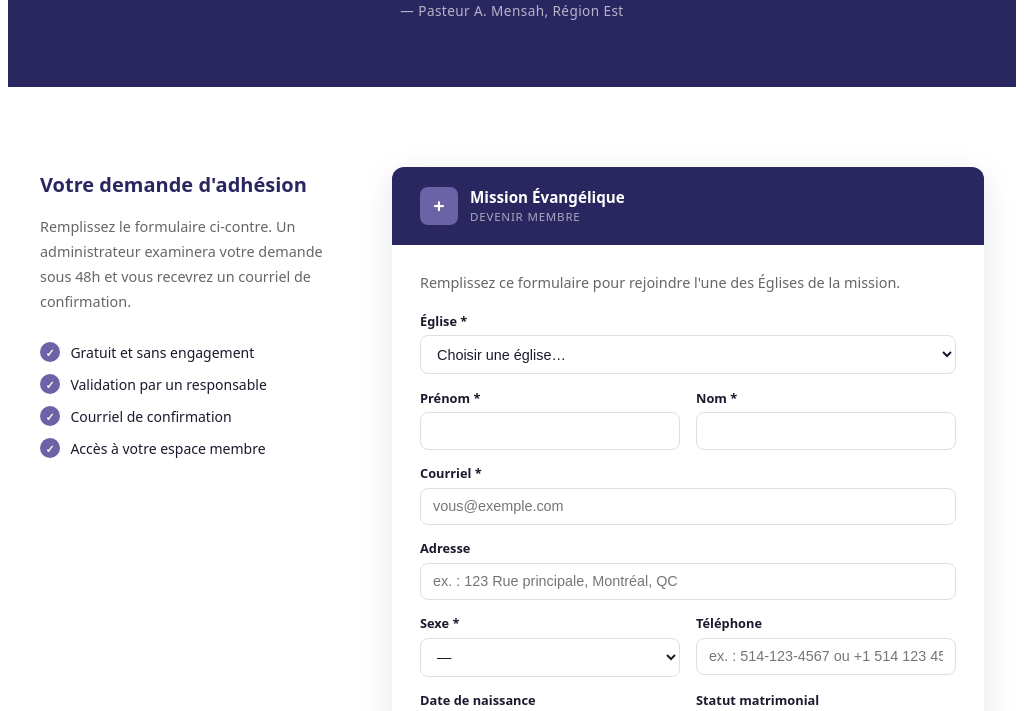
Test: MembershipPage — envoi et confirmation › affiche l'erreur du serveur et garde le formulaire ouvert
(page scrolled)
Select "Église centrale — Centre" in the 1st dropdown: (688, 355) [420, 335, 956, 374]
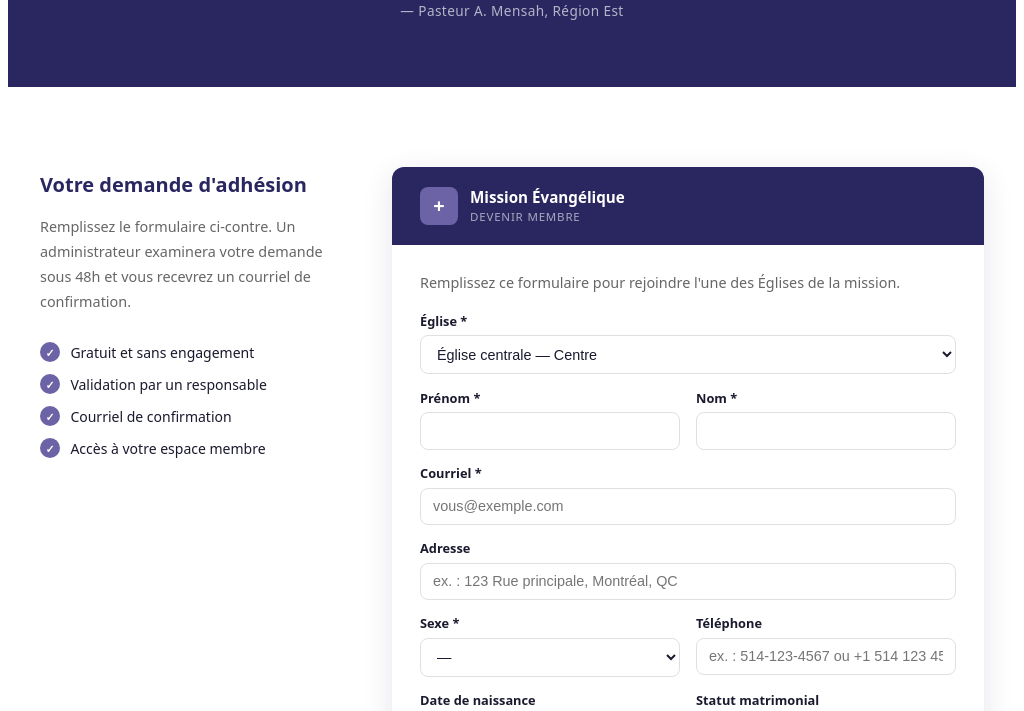
In the field below "Prénom *": (550, 431) [420, 412, 680, 450], type "Marie"
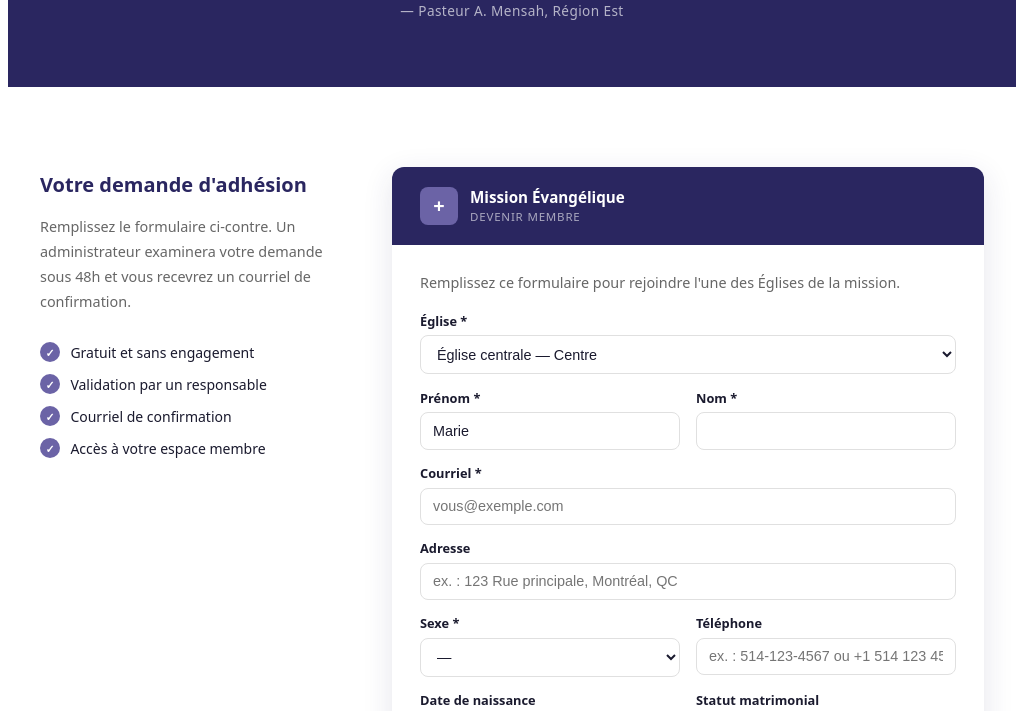
In the 2nd field: (826, 431) [696, 412, 956, 450], type "Dupont"
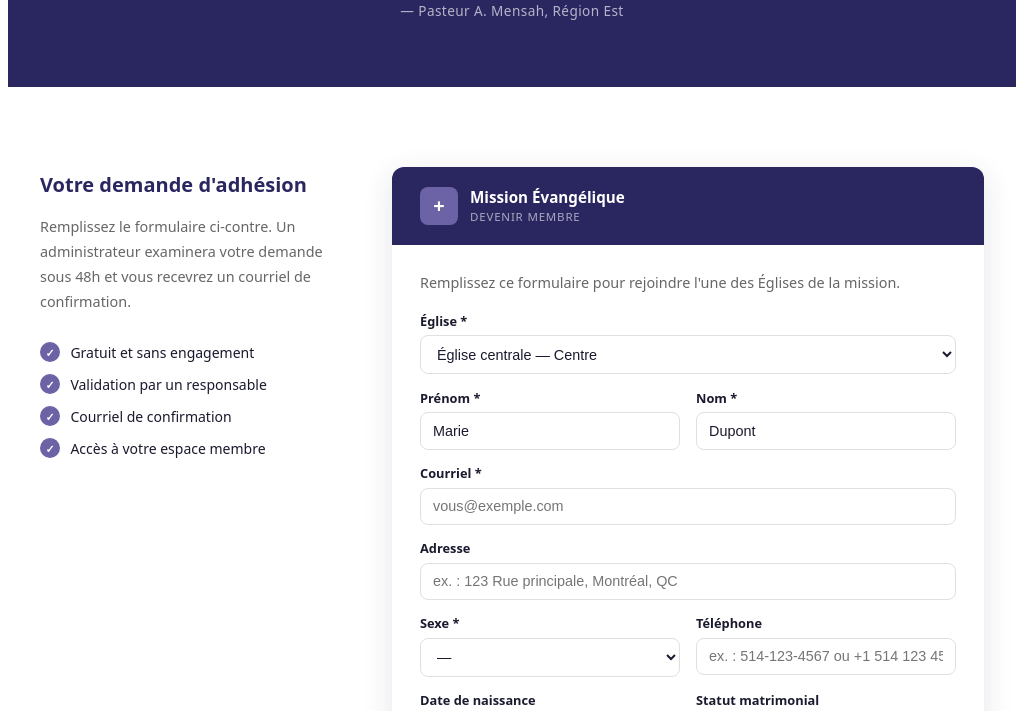
In the field with placeholder "vous@exemple.com": (688, 506) [420, 488, 956, 525], type "marie@exemple.com"
(page scrolled)
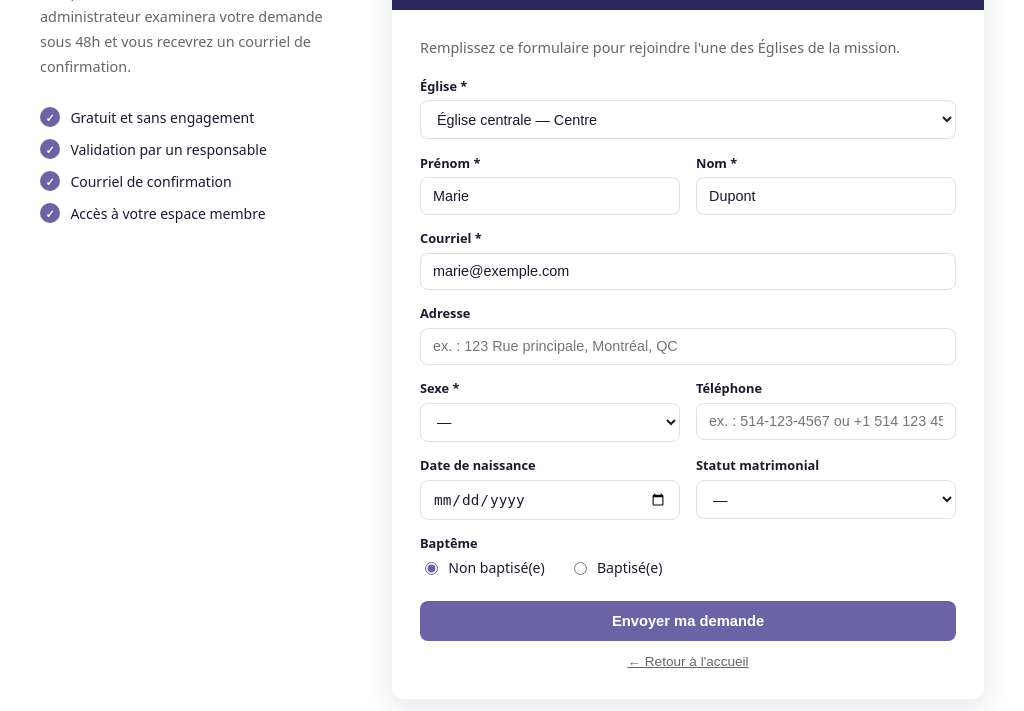
Submit the form, box [392, 10, 984, 699]
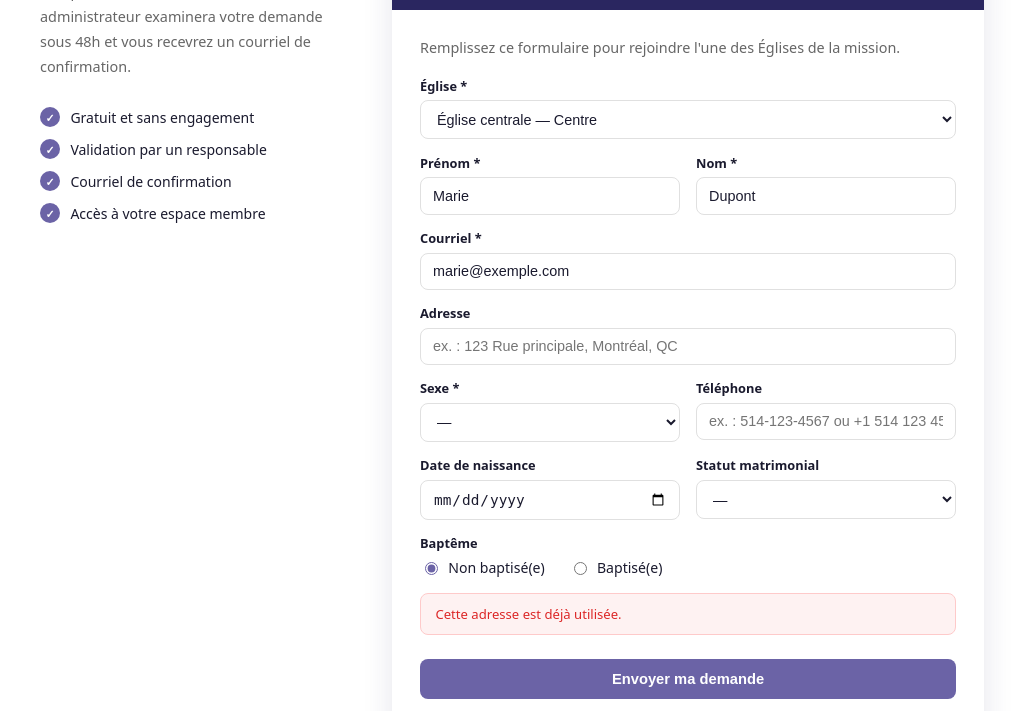
Expected: the text "Cette adresse est déjà utilisée." is shown, [420, 593, 956, 635]
